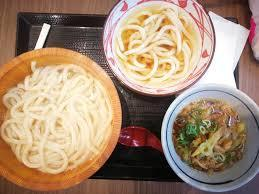bukkake: (104, 1, 211, 91)
kamaage: (1, 52, 117, 182)
